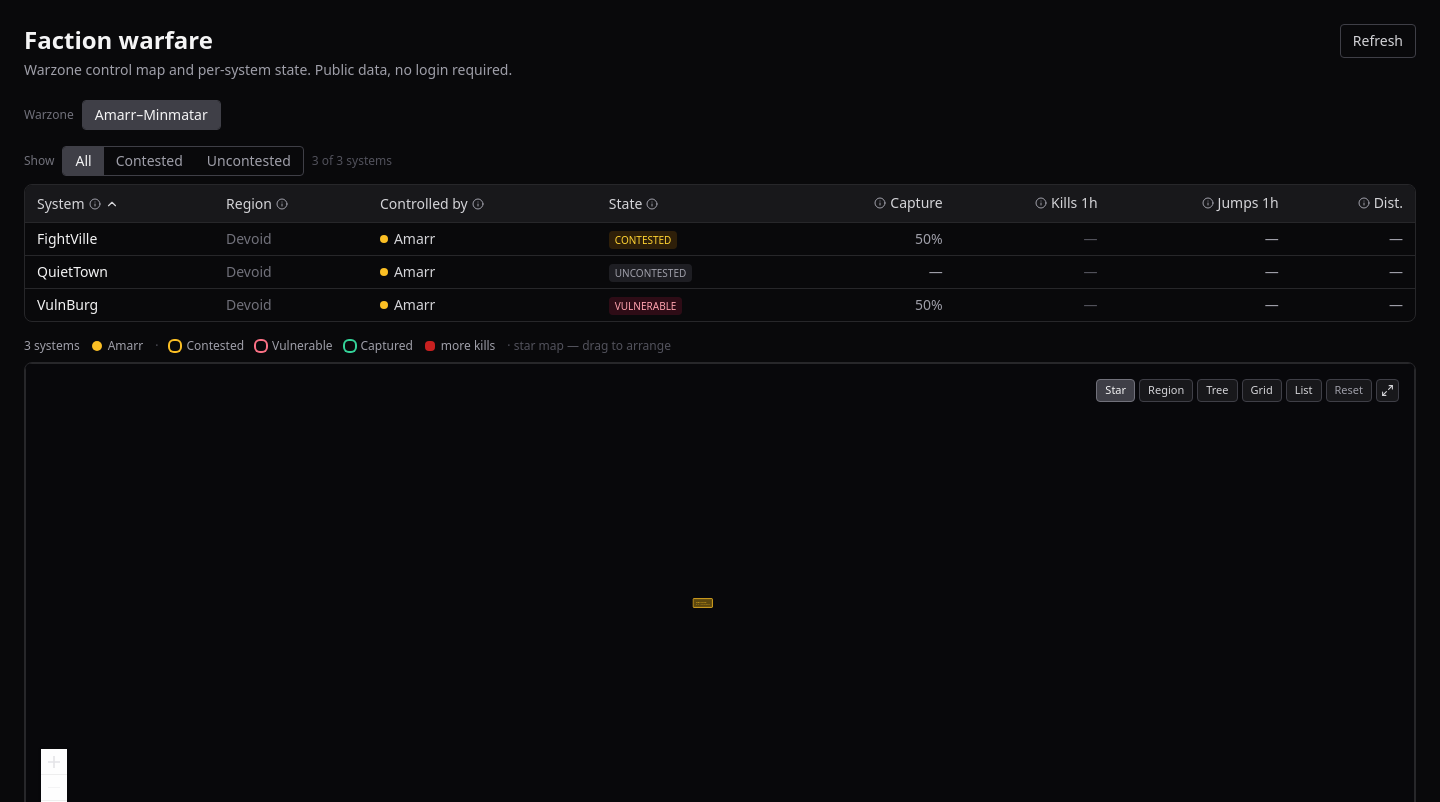
Test: FW warzone list filter › filters the system table by contested / uncontested / all
Expected: the button "QuietTown" is shown, [37,262,108,282]
Expected: the button "FightVille" is shown, [37,229,97,249]
Click the button "Contested" at (149, 161), box [104,147,195,175]
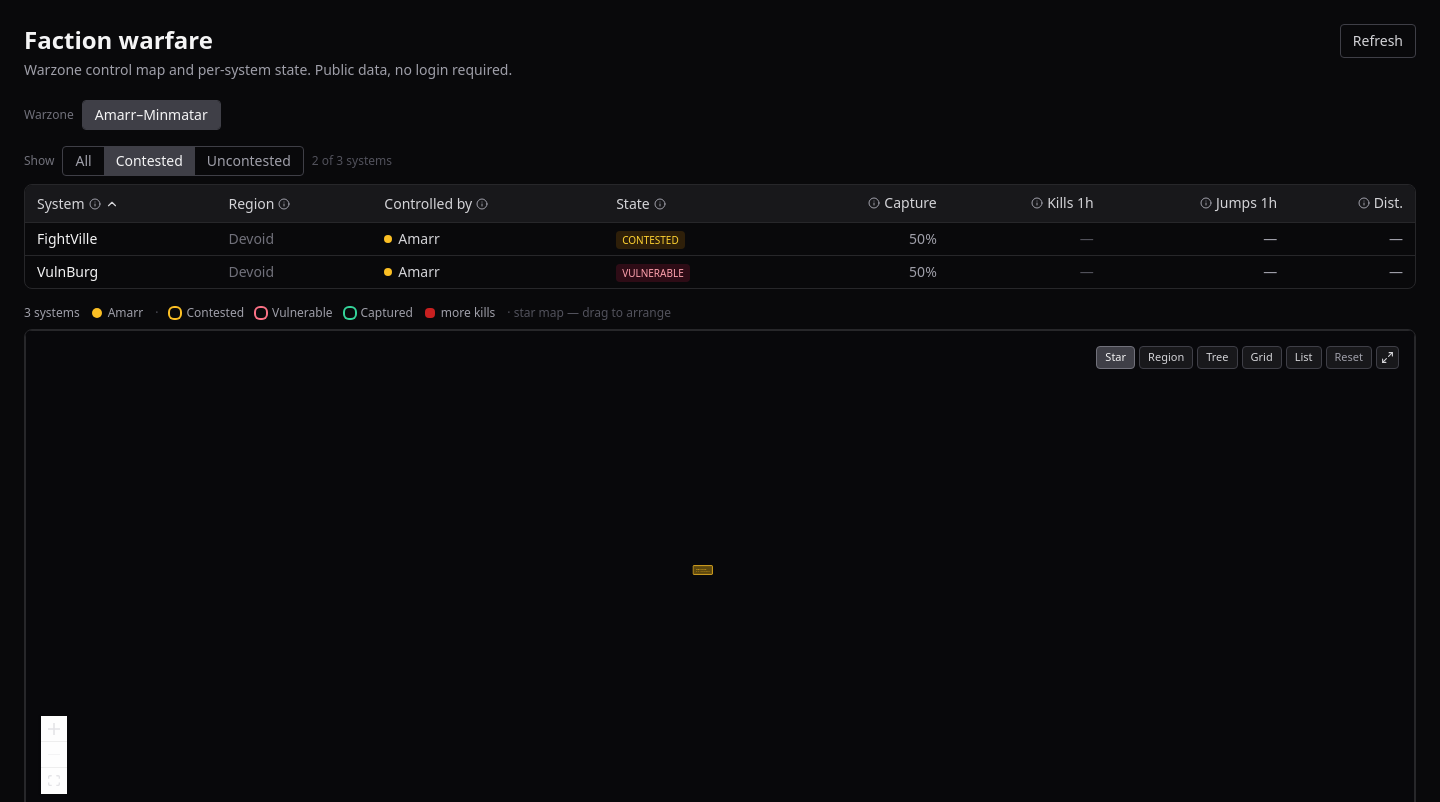
Expected: the button "FightVille" is shown, [37,229,97,249]
Expected: the button "QuietTown" is gone
Click the button "Uncontested" at (249, 161), box [195,147,303,175]
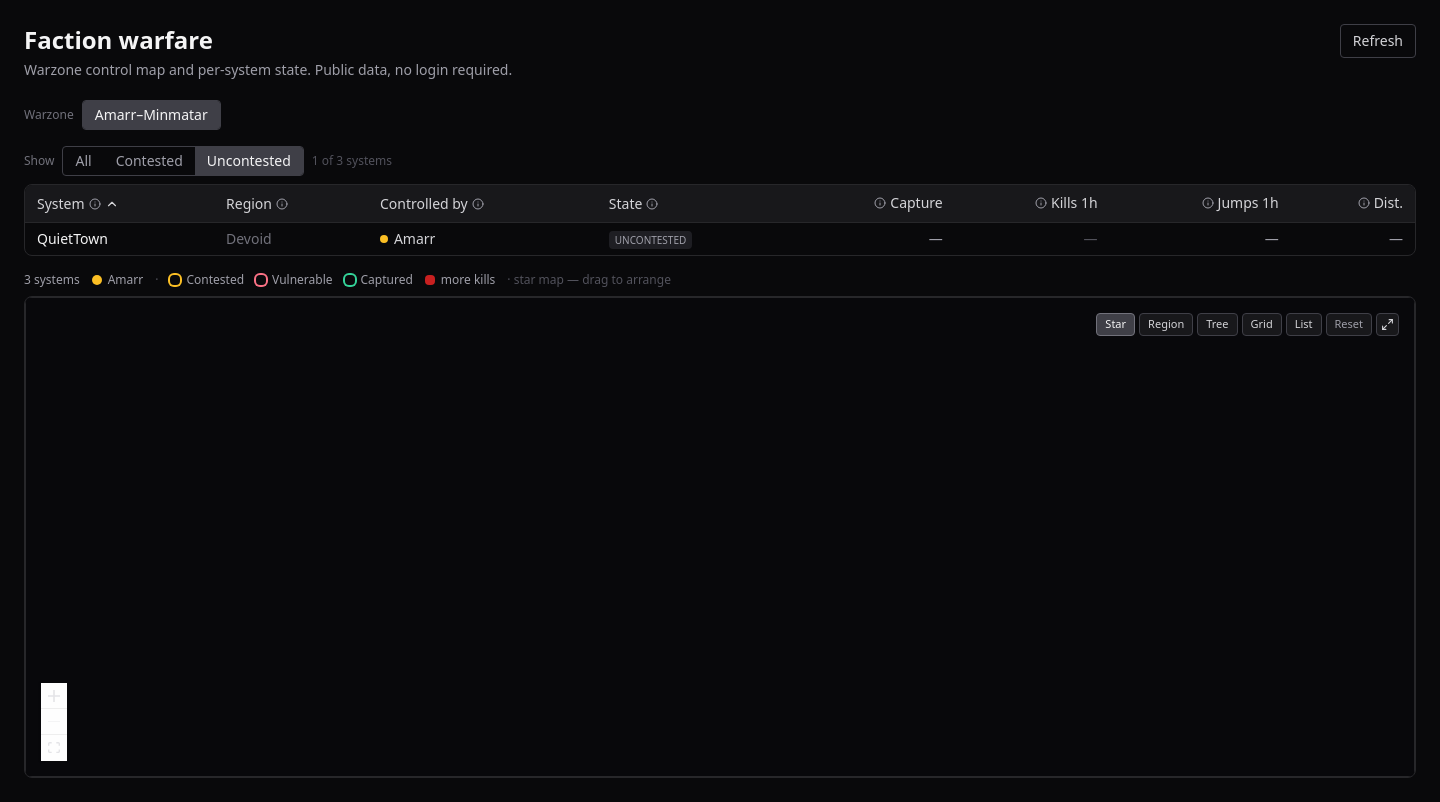
Expected: the button "QuietTown" is shown, [37,229,108,249]
Expected: the button "FightVille" is gone
Expected: the button "VulnBurg" is gone
Click the button "All" at (84, 161), box [64,147,104,175]
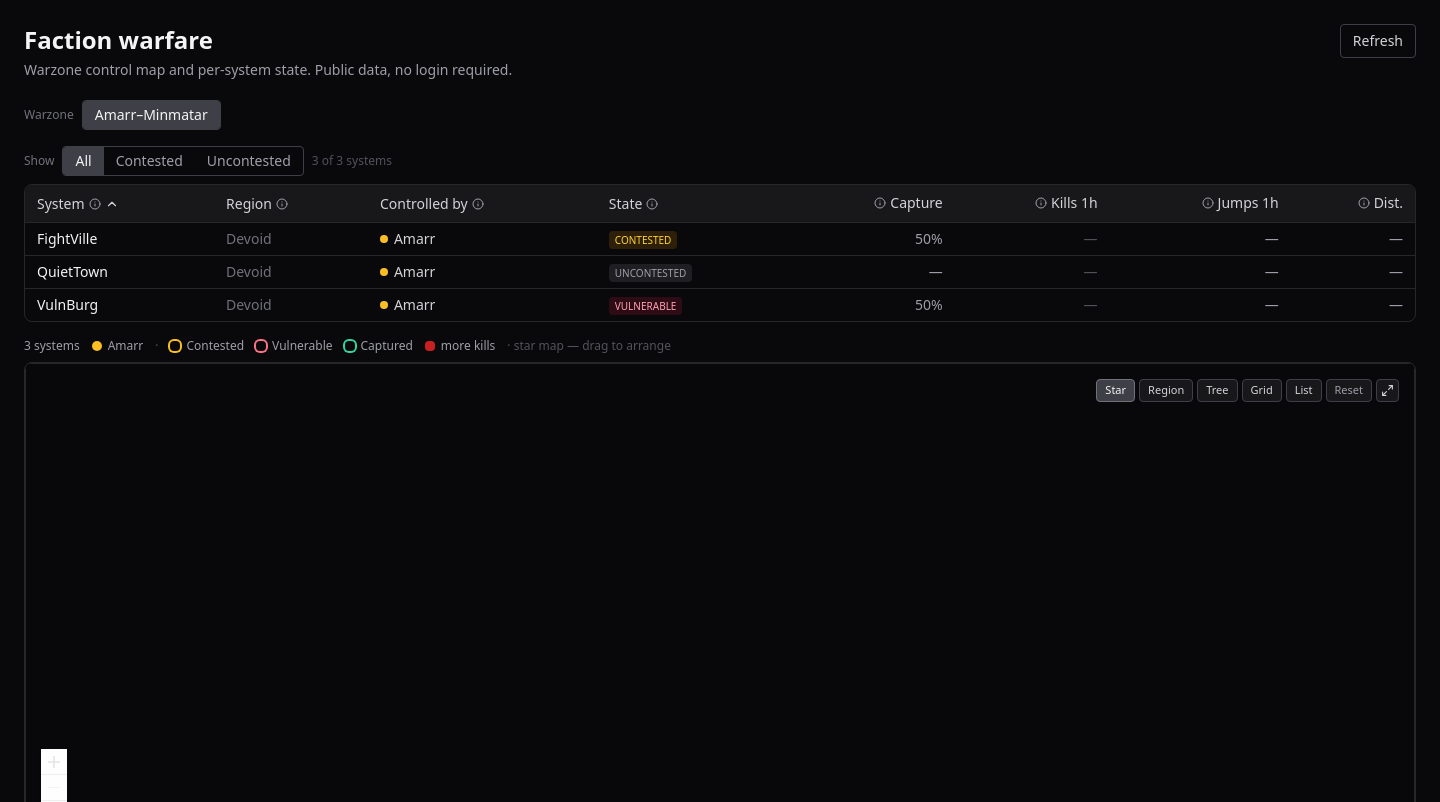
Expected: the button "QuietTown" is shown, [37,262,108,282]
Expected: the button "FightVille" is shown, [37,229,97,249]
Expected: the button "VulnBurg" is shown, [37,295,98,315]
